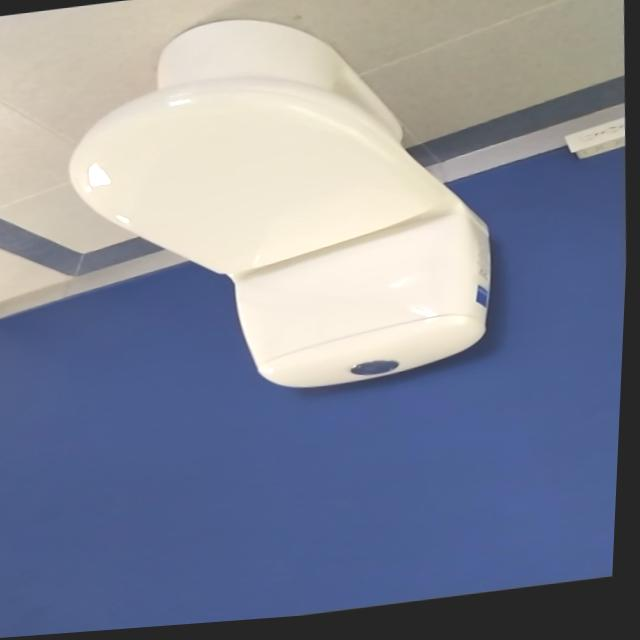toilet: (54, 0, 510, 423)
